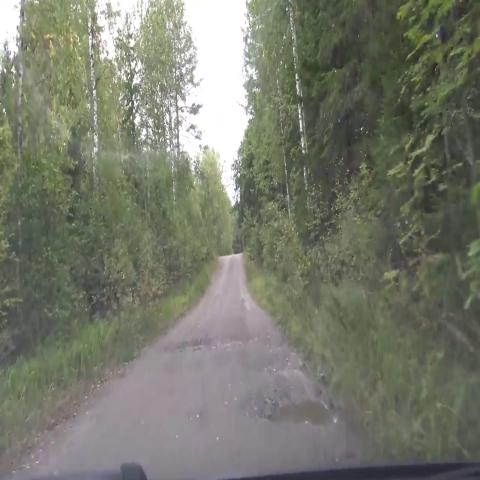pothole: (240, 372, 344, 438), (166, 330, 211, 362), (251, 340, 288, 378)
